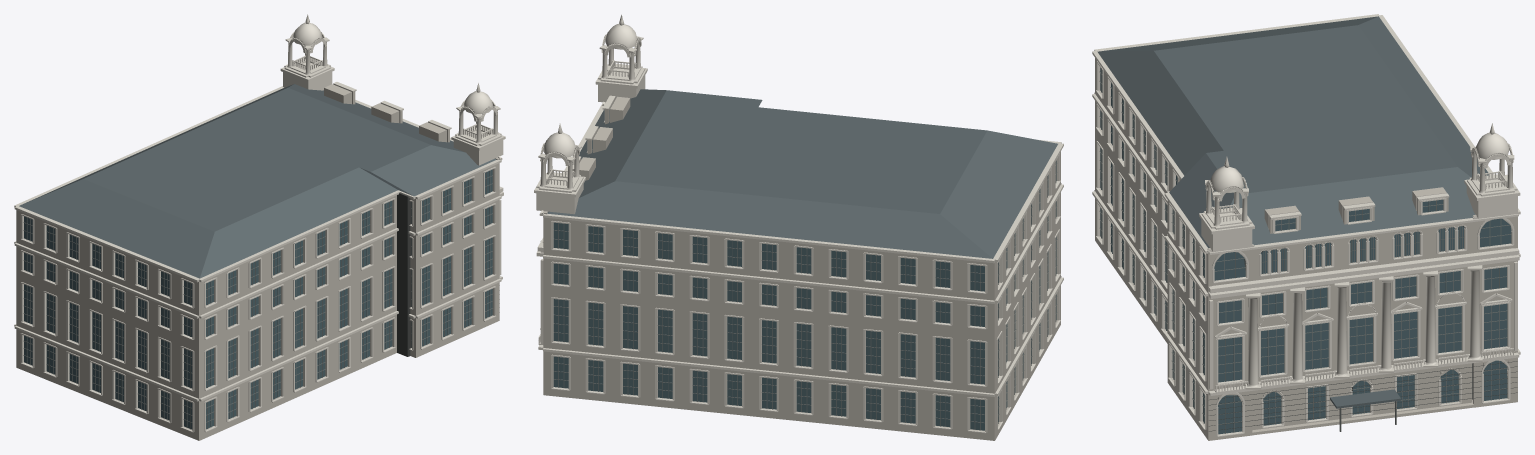
The model's file is bund02.glb.
The picture shows the model from 3 angles, left to right: view 1: azimuth 30°, elevation 25°; view 2: azimuth 150°, elevation 25°; view 3: azimuth 270°, elevation 25°; orthographic projection. The views are drawn at different scales.
Size of the model in its own units: 65.25 by 35 by 49.
